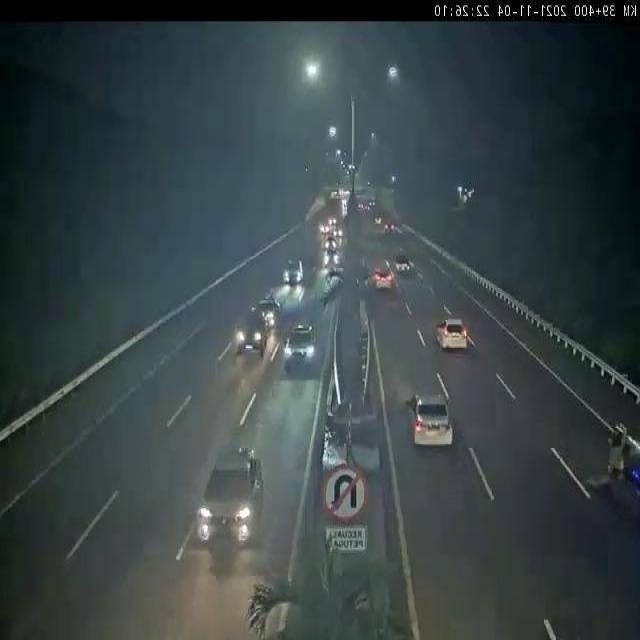Car: (196, 445, 263, 546), (404, 391, 453, 448), (282, 324, 322, 368), (234, 312, 267, 355), (436, 319, 468, 351), (251, 298, 279, 329), (282, 257, 302, 283), (374, 270, 394, 290), (325, 238, 337, 251)
